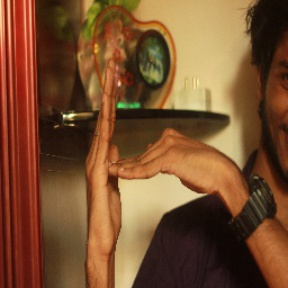Z: (80, 54, 228, 251)
